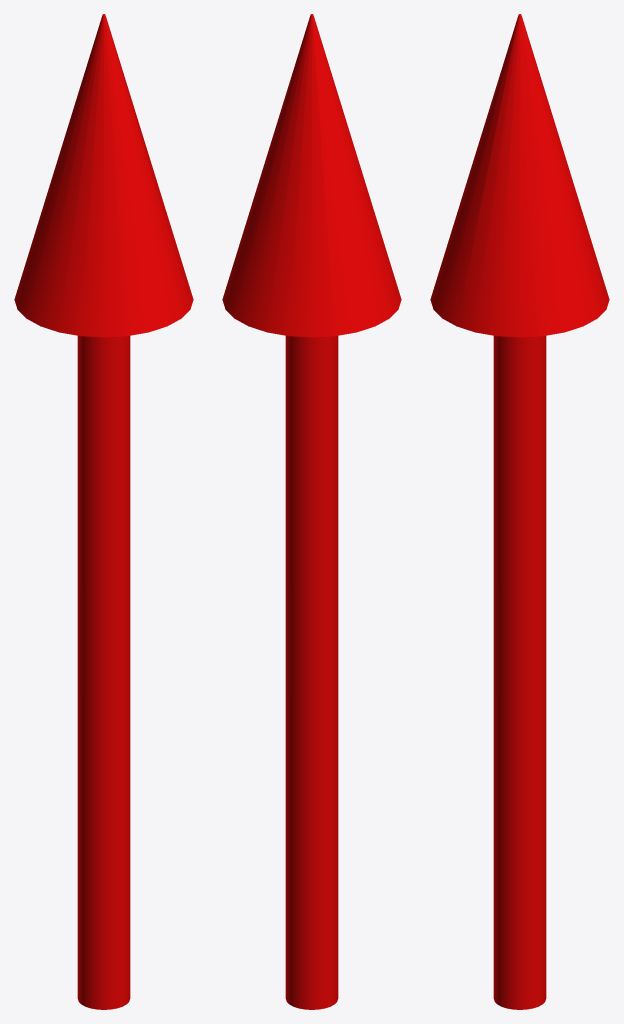
Rendered from Arrow.fbx.
3 renders of one model, left to right at view 1: azimuth 30°, elevation 25°; view 2: azimuth 150°, elevation 25°; view 3: azimuth 270°, elevation 25°, orthographic.
Parts seen in each view (by area): view 1: Conical_Arrow2; view 2: Conical_Arrow2; view 3: Conical_Arrow2.
Boxes of the visible parts, x1,y1,x2,y2 form: Conical_Arrow2: (14,14,193,1009); Conical_Arrow2: (222,14,401,1009); Conical_Arrow2: (430,14,609,1009).
Bounding box in the file's own units: 365 × 2215 × 365.
